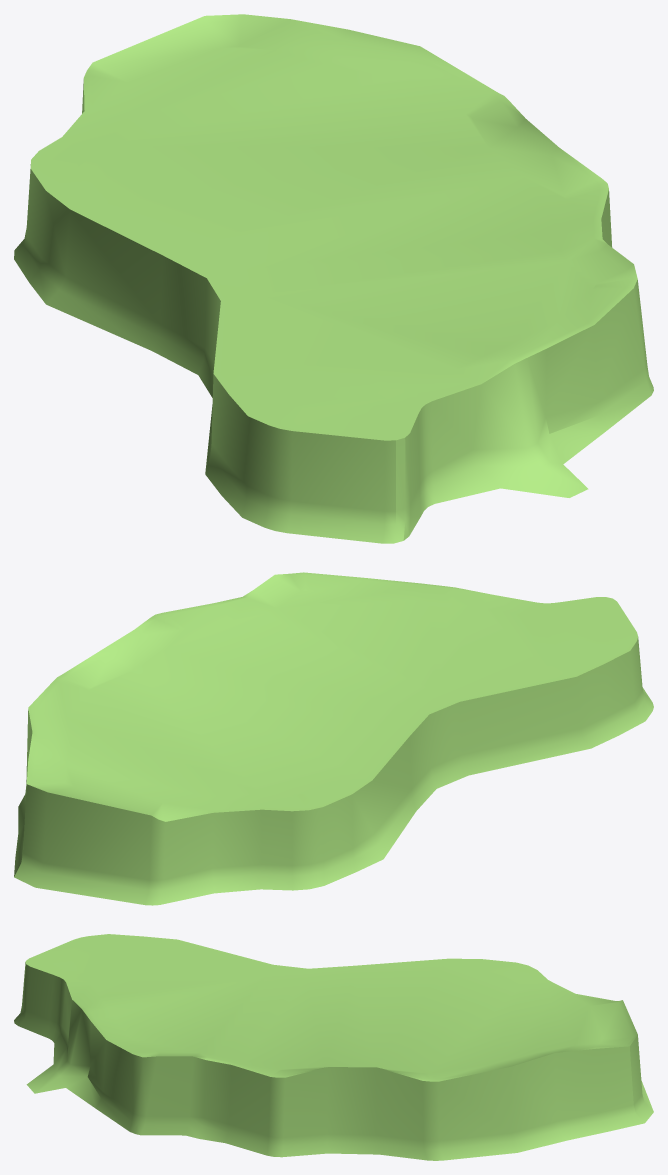
The model's file is IslandPlayer1.fbx.
3 views of the same model, one above another, from view 1: azimuth 30°, elevation 25°; view 2: azimuth 150°, elevation 25°; view 3: azimuth 270°, elevation 25° (orthographic). The views are drawn at different scales.
Parts seen in each view (by area): view 1: IslandPlayer1; view 2: IslandPlayer1; view 3: IslandPlayer1.
Boxes of the visible parts, x1=… form: IslandPlayer1: x1=14, y1=14, x2=653, y2=543; IslandPlayer1: x1=14, y1=572, x2=653, y2=905; IslandPlayer1: x1=14, y1=934, x2=653, y2=1160.
Size of the model in its own units: 50.48 by 7.83 by 31.54.
